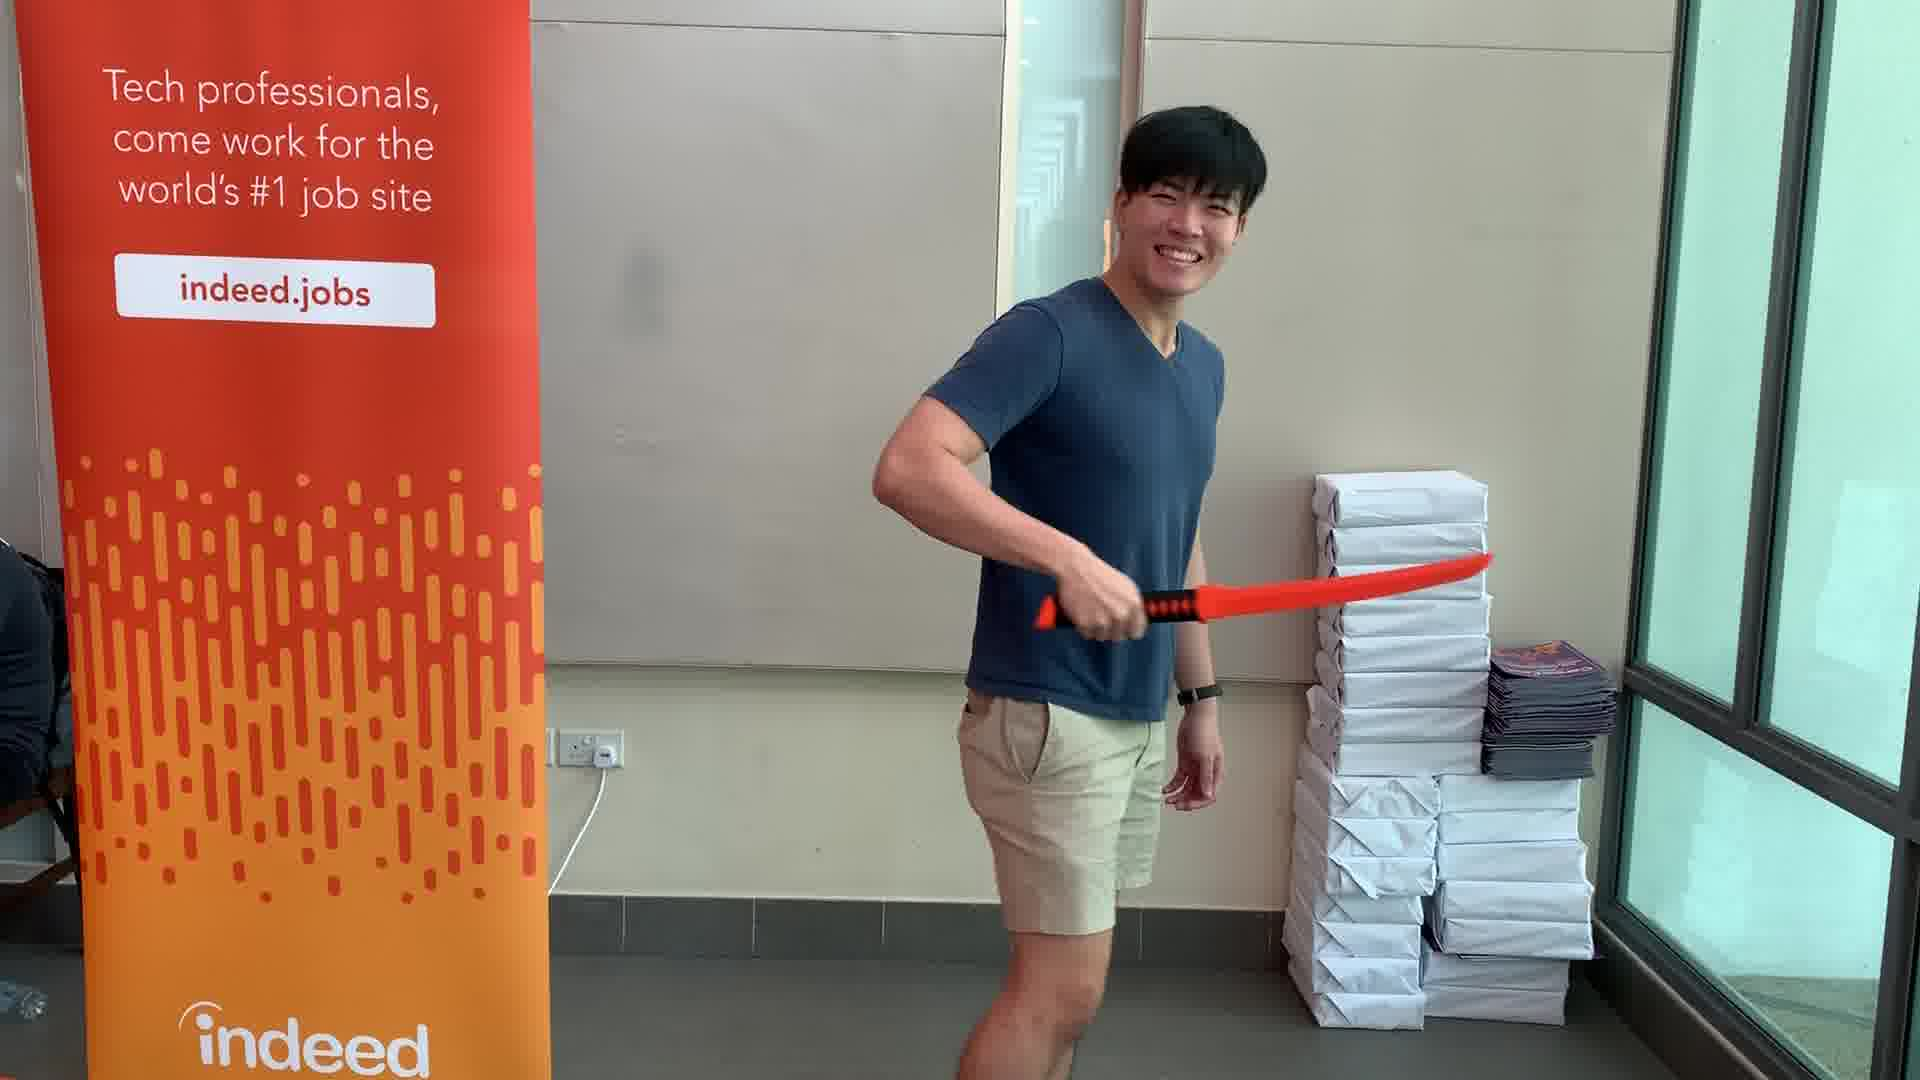knife: (1031, 549, 1495, 640)
